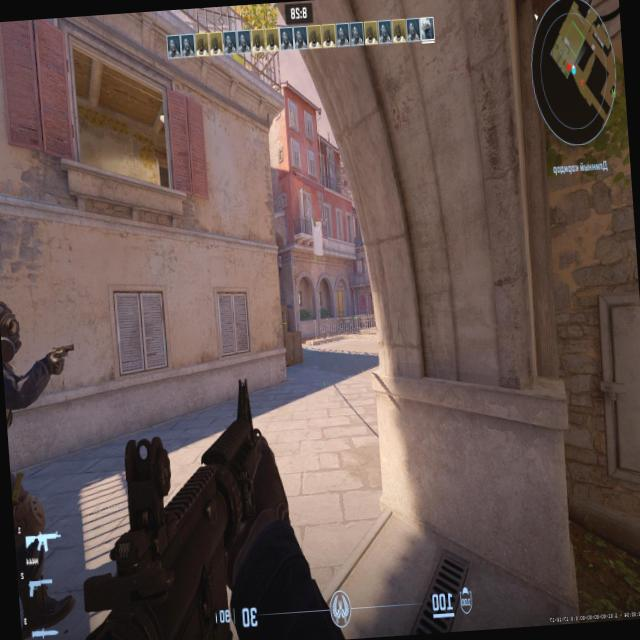CT: (0, 312, 35, 513)
CT_heat: (1, 322, 18, 352)
